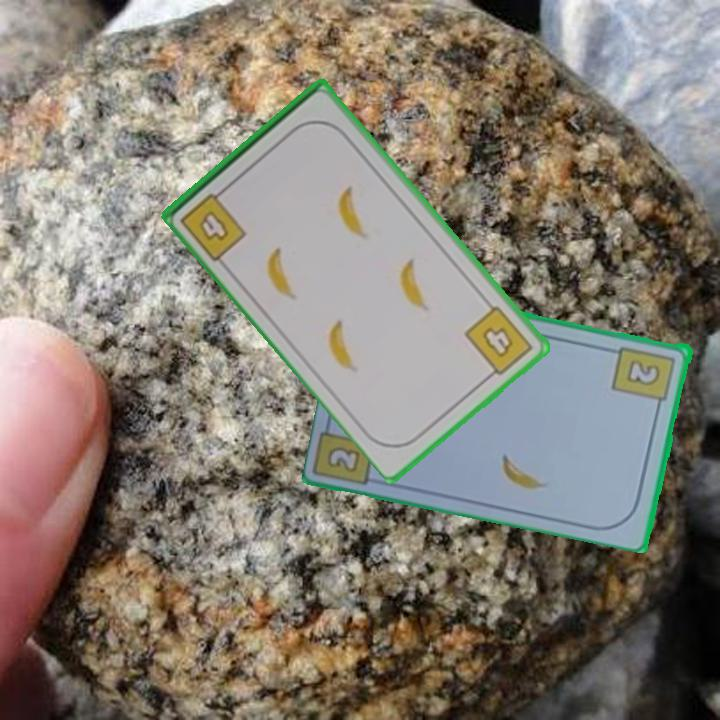2b: (610, 342, 679, 413), (327, 445, 360, 472)
4b: (460, 302, 536, 383), (176, 182, 250, 264)
